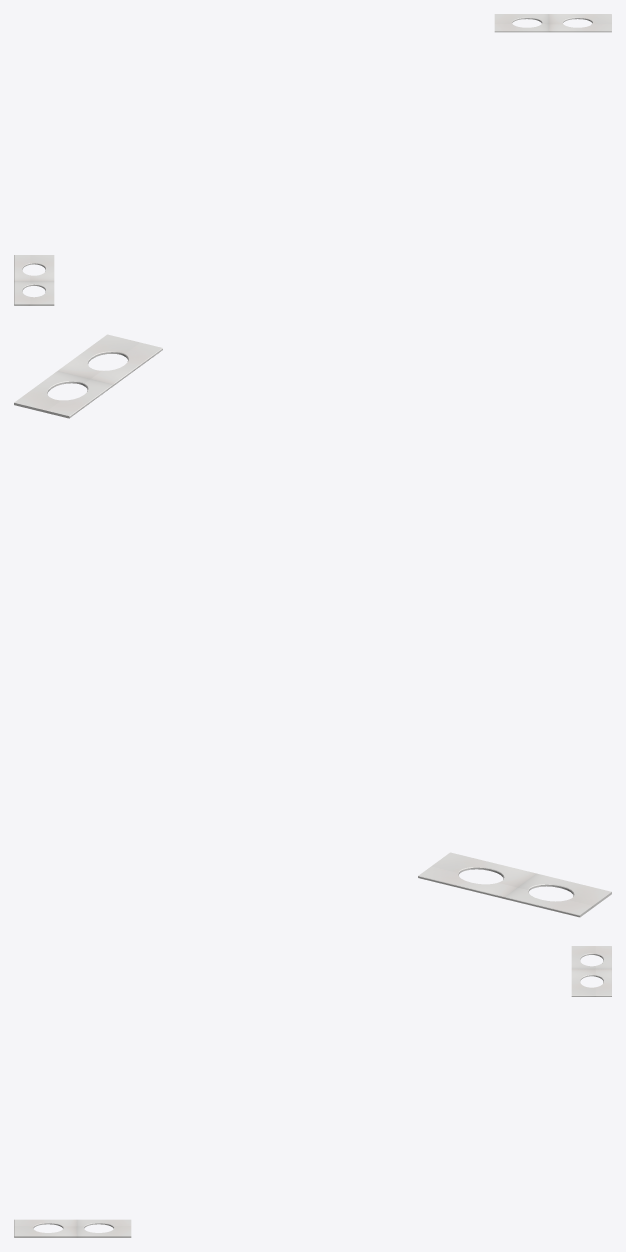
File: Countertops_Quartz_Arctic_White.glb
3 renders of one model, top to bottom at view 1: azimuth 90°, elevation 25°; view 2: azimuth 150°, elevation 25°; view 3: azimuth 270°, elevation 25°, orthographic. The views are drawn at different scales.
Visible parts, largest first — view 1: Countertop_quartz_arctic_white; view 2: Countertop_quartz_arctic_white; view 3: Countertop_quartz_arctic_white.
Boxes of the visible parts, <box> form: Countertop_quartz_arctic_white: <box>14,14,611,305</box>; Countertop_quartz_arctic_white: <box>14,334,611,917</box>; Countertop_quartz_arctic_white: <box>14,946,611,1237</box>.
Bounding box in the file's own units: 17 × 0.04 × 14.8.
1 material, 1 textured.
